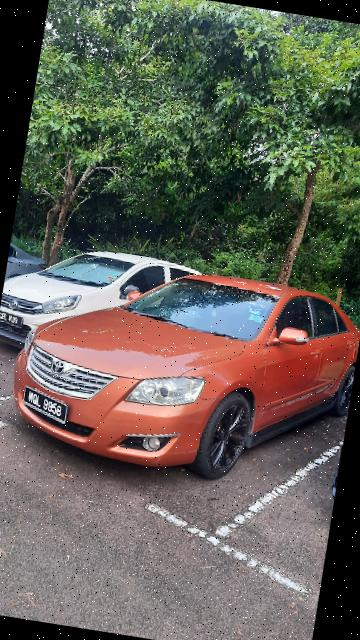License_Plate: (19, 385, 74, 425), (1, 305, 27, 332)
car: (2, 241, 360, 498), (1, 233, 217, 377)
